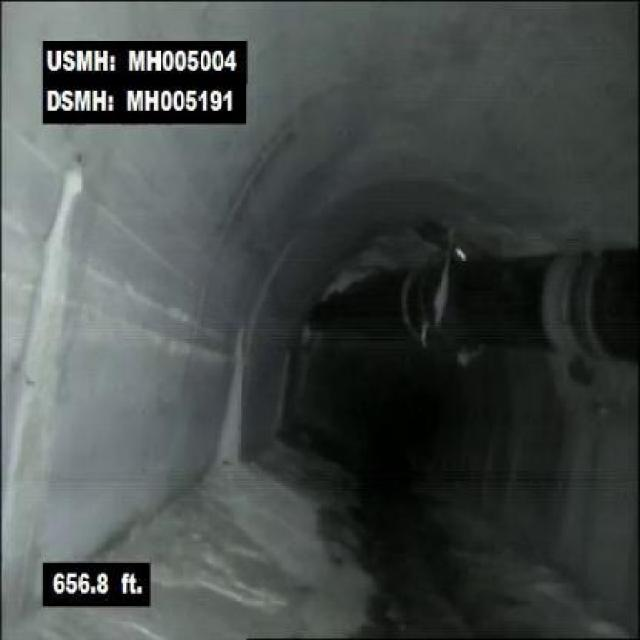Utility intrusion: (292, 235, 638, 360)
